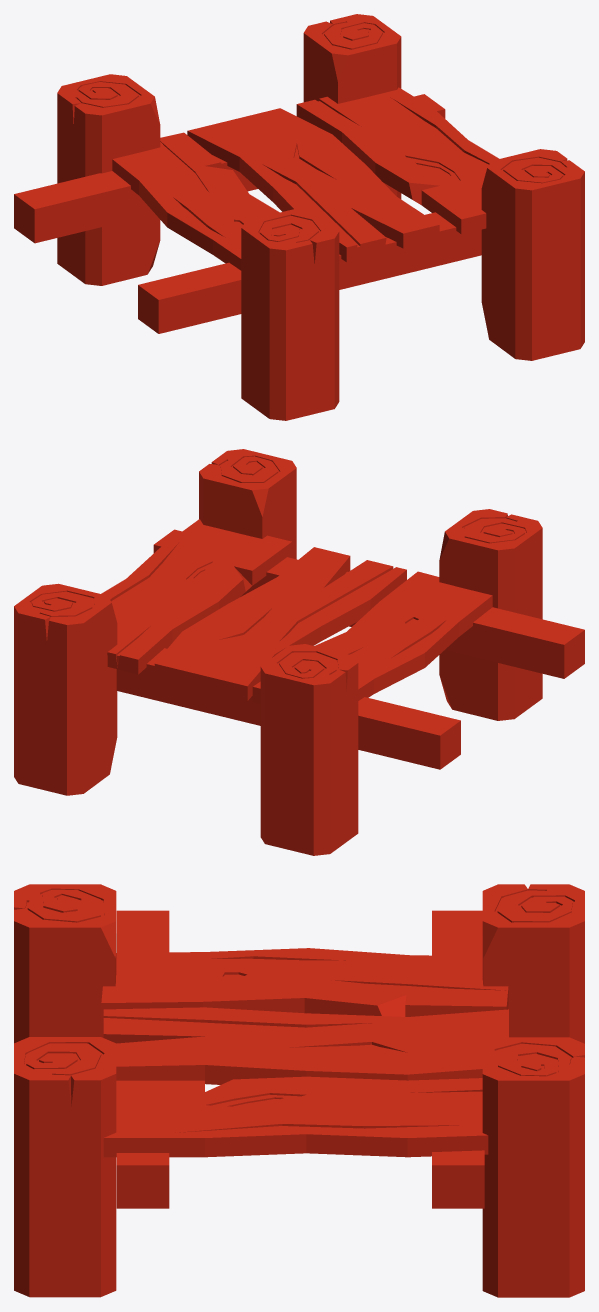
The model's file is dock.fbx.
The picture shows the model from 3 angles, top to bottom: view 1: azimuth 30°, elevation 25°; view 2: azimuth 150°, elevation 25°; view 3: azimuth 270°, elevation 25°; orthographic projection. The views are drawn at different scales.
Visible parts, largest first — view 1: Cubo.107; view 2: Cubo.107; view 3: Cubo.107.
Boxes of the visible parts, box(x1,y1,x2,y2) form: Cubo.107: box(14, 14, 584, 420); Cubo.107: box(14, 449, 584, 855); Cubo.107: box(14, 884, 584, 1297).
Bounding box in the file's own units: 744 × 295 × 705.
